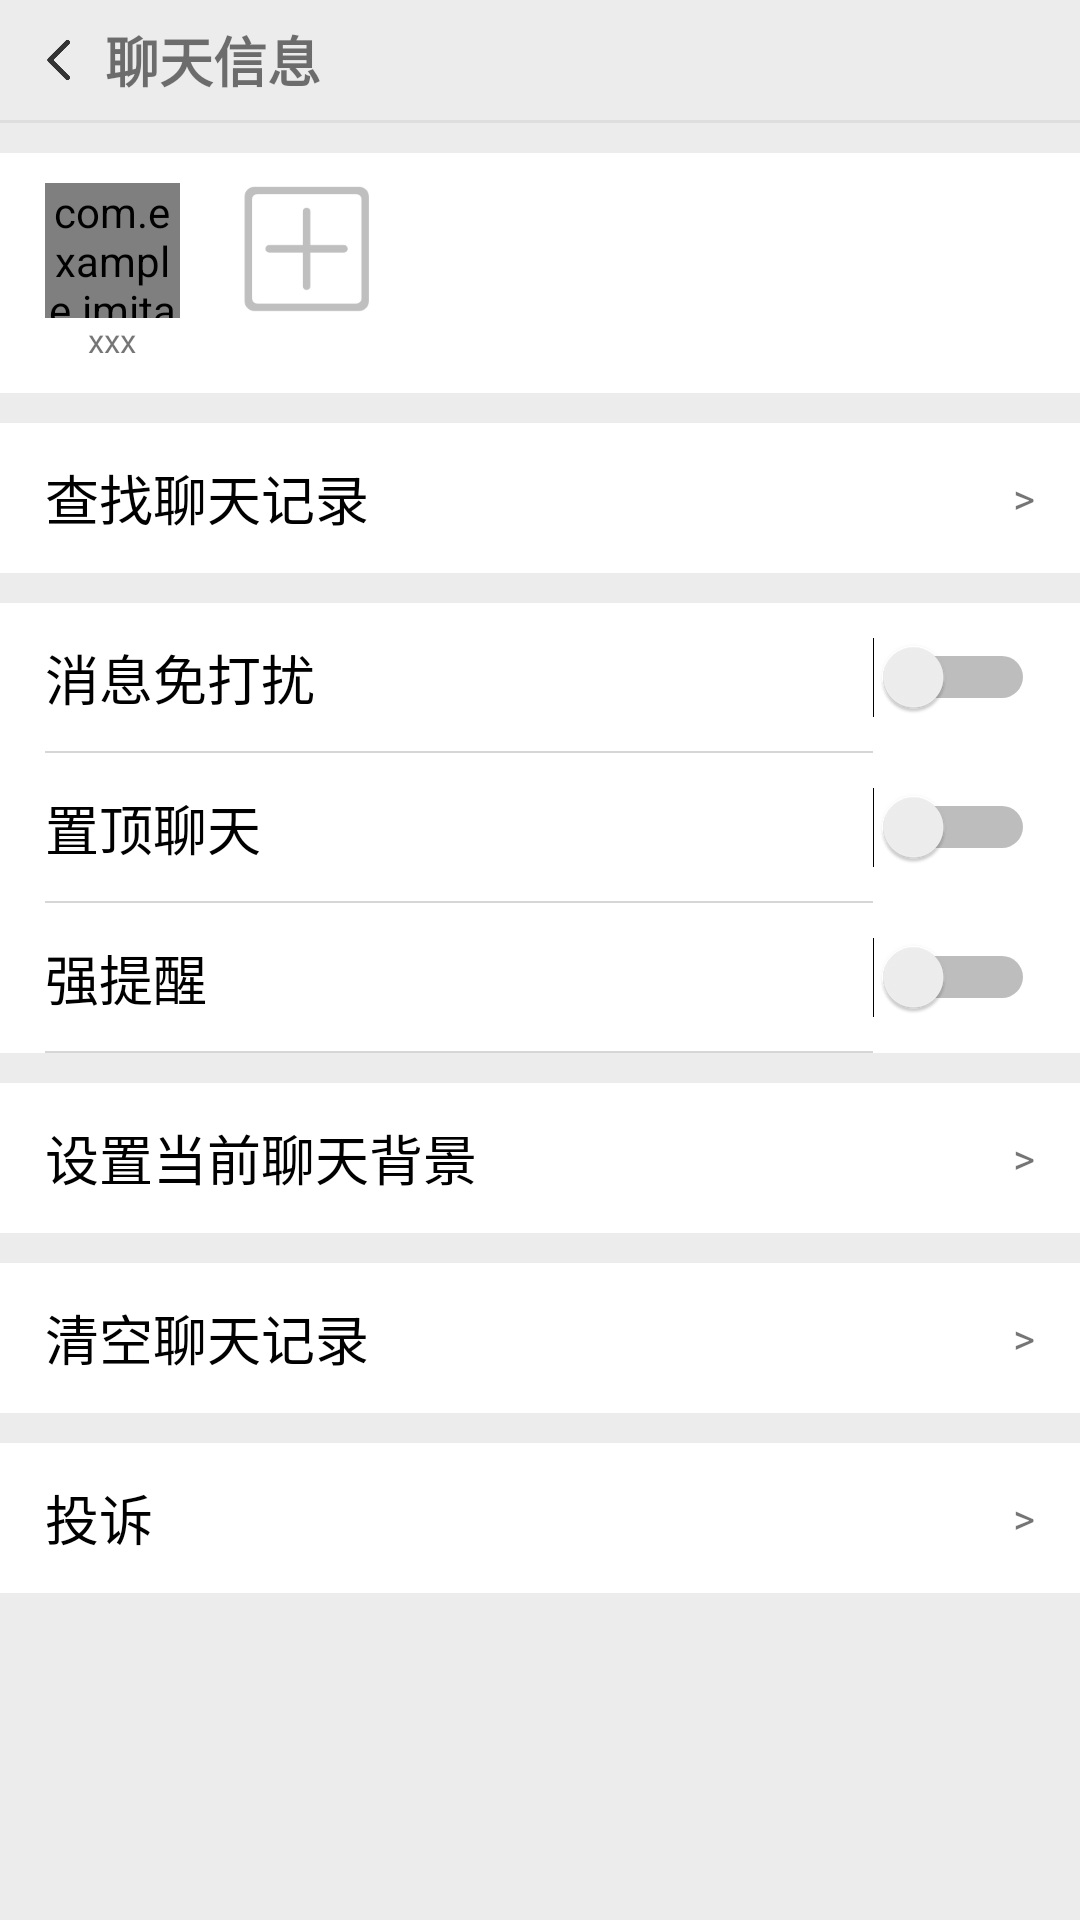

Icon bounding boxes for this 1080x1920 phone screenshot, format (x1, y1, x2, y2):
back: (47, 40, 70, 80)
chat add: (244, 187, 369, 311)
